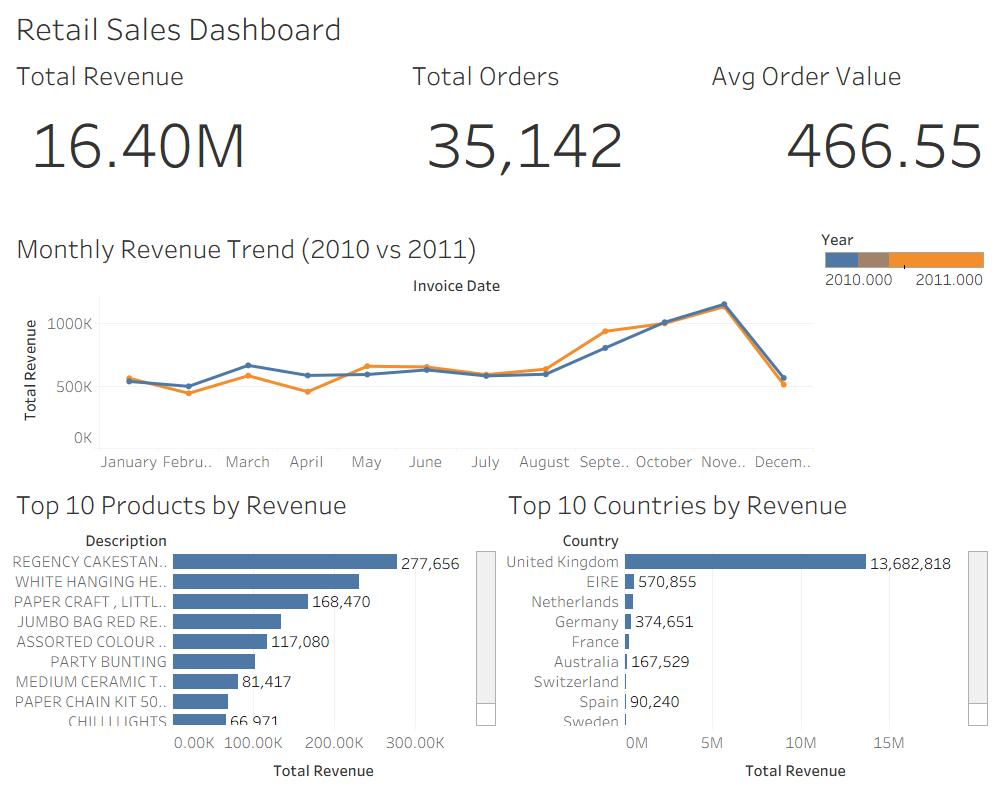

The page's visual inventory and layout, read from the dashboard file:
{"tool":"tableau","page":{"name":"Retail Sales Dashboard","canvas":[1000,800],"ordinal":0},"visuals":[{"type":"title","box":[8,8,984,40]},{"type":"worksheet","title":"Total Revenue","mark":"Automatic","box":[8,48,396,173]},{"type":"worksheet","title":"Total Orders","mark":"Automatic","box":[404,48,299,173]},{"type":"worksheet","title":"Avg Order Value","mark":"Automatic","box":[703,48,289,173]},{"type":"worksheet","title":"Monthly Revenue Trend (2010 vs 2011)","mark":"Automatic","rows":["TotalPrice"],"cols":["InvoiceDate"],"box":[8,221,809,256]},{"type":"legend","title":"Monthly Revenue Trend (2010 vs 2011)","param":"[federated.0yzk4zr1nz6asx13pdhbm12qbbef].[none:Year:qk]","box":[817,221,175,73]},{"type":"worksheet","title":"Top 10 Products by Revenue","mark":"Automatic","rows":["Description"],"cols":["TotalPrice"],"box":[8,477,492,315]},{"type":"worksheet","title":"Top 10 Countries by Revenue","mark":"Automatic","rows":["Country"],"cols":["TotalPrice"],"box":[500,477,492,315]}]}

Visuals, with their boxes in screenshot pixels (x1, y1, x2, y2), scaled from the page's 1000x800 canvas onto the 1000x800 screenshot:
title: [8, 8, 992, 48]
"Total Revenue" worksheet: [8, 48, 404, 221]
"Total Orders" worksheet: [404, 48, 703, 221]
"Avg Order Value" worksheet: [703, 48, 992, 221]
"Monthly Revenue Trend (2010 vs 2011)" worksheet: [8, 221, 817, 477]
"Monthly Revenue Trend (2010 vs 2011)" legend: [817, 221, 992, 294]
"Top 10 Products by Revenue" worksheet: [8, 477, 500, 792]
"Top 10 Countries by Revenue" worksheet: [500, 477, 992, 792]
